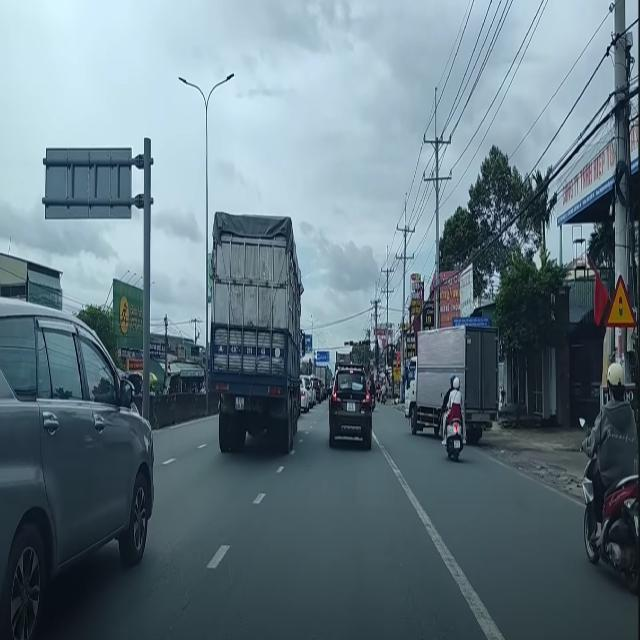Bien bao giao nhau co tin hieu den: (602, 273, 637, 335)
